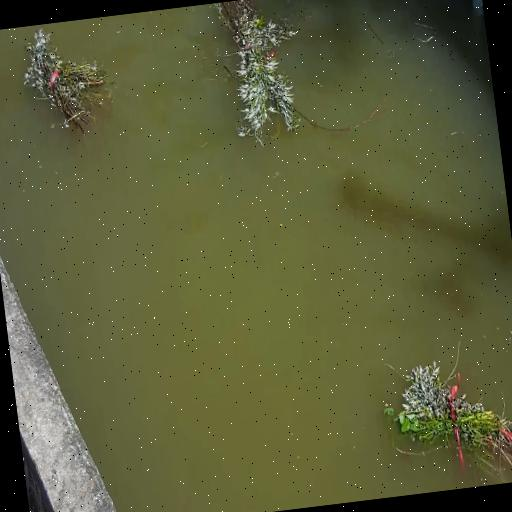twig: (207, 0, 392, 149), (378, 337, 512, 492), (17, 21, 118, 143)
